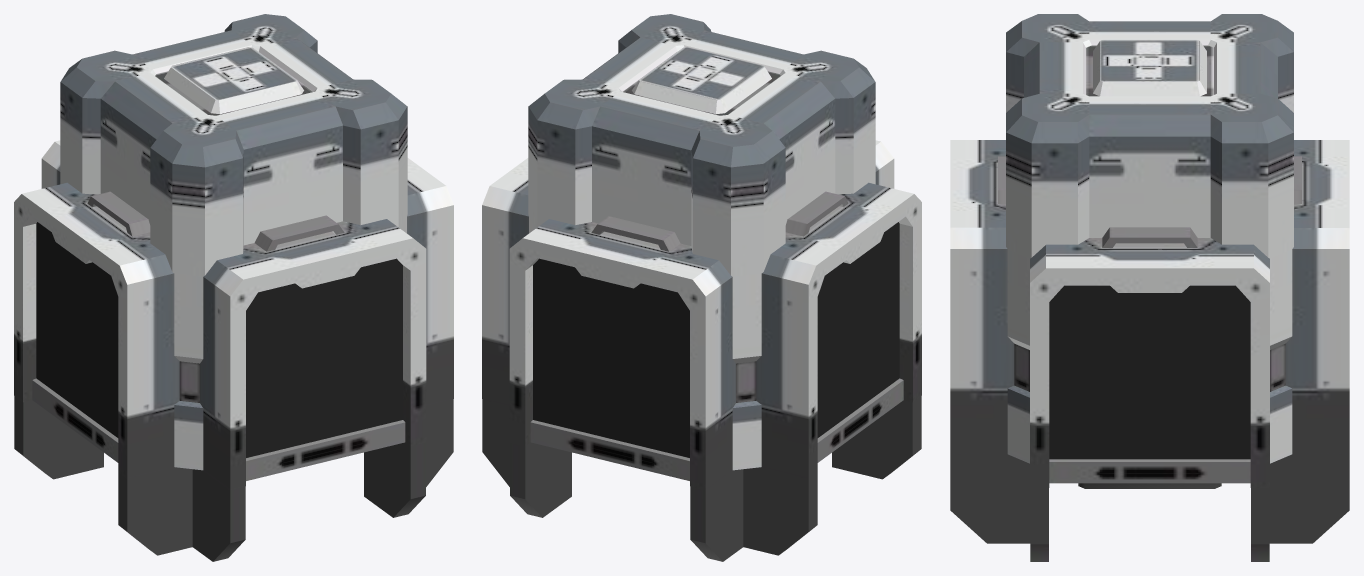
3 views of the same model, side by side, from view 1: azimuth 30°, elevation 25°; view 2: azimuth 150°, elevation 25°; view 3: azimuth 270°, elevation 25° (orthographic). The views are drawn at different scales.
Visible parts, largest first — view 1: splitter-a; view 2: splitter-a; view 3: splitter-a.
Part boxes in pixels (x1,y1,x2,y2): splitter-a: (14, 14, 453, 561); splitter-a: (482, 14, 921, 561); splitter-a: (950, 14, 1349, 561).
Size of the model in its own units: 2.5 by 2.99 by 2.5.
Materials: 2 (1 with a texture image).
